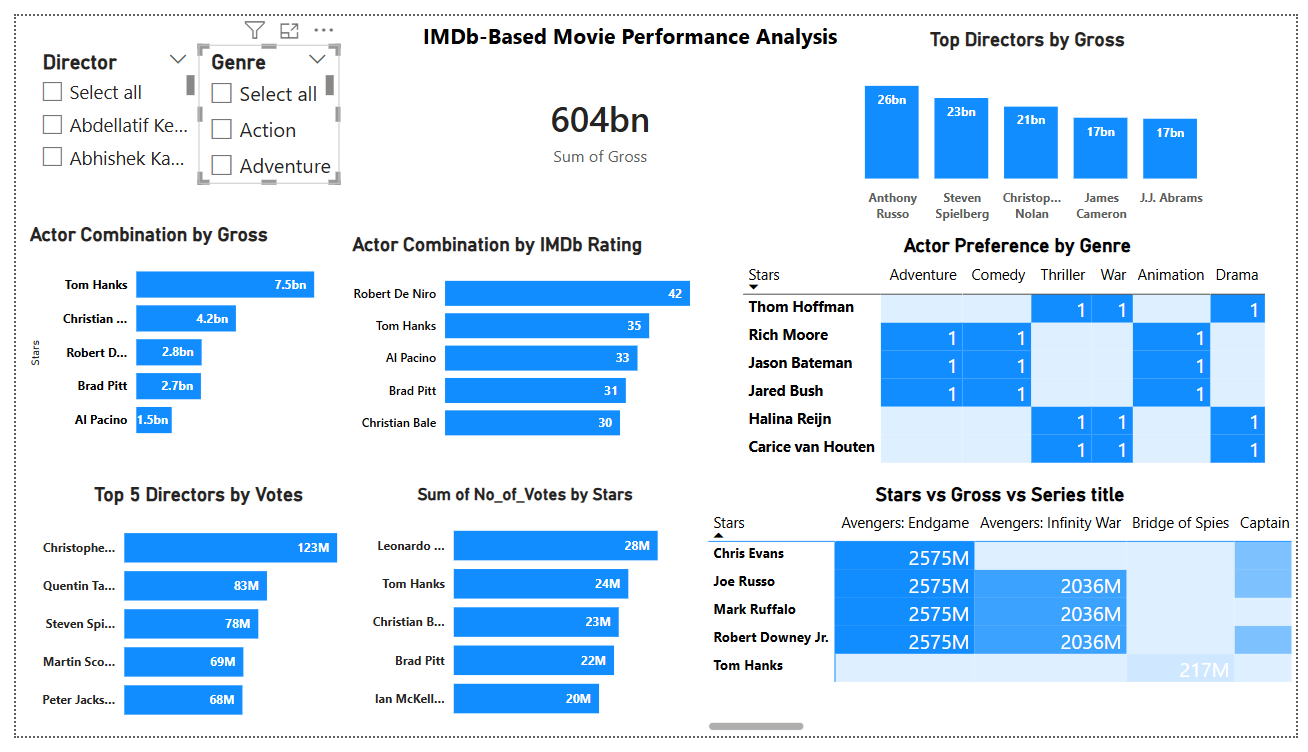

This screenshot's page, from the dashboard's own definition file:
{"tool":"powerbi","page":{"name":"Page 1","canvas":[1280,720],"ordinal":0},"visuals":[{"type":"columnChart","title":"Top  Directors by Gross","fields":{"Y":["imdb.Gross"],"Category":["imdb.Director"]},"box":[806.7,12.2,410.1,201.4],"z":0},{"type":"barChart","title":"Top 5 Directors by Votes","fields":{"Category":["imdb.Director"],"Y":["imdb.No_of_Votes"]},"box":[7.3,467.4,350.3,252.6],"z":1000},{"type":"pivotTable","title":"Stars vs Gross vs Series title","fields":{"Columns":["imdb.Series_Title"],"Values":["imdb.Gross"],"Rows":["imdb.Stars"]},"box":[687.2,467.4,593,252.3],"z":2000},{"type":"barChart","fields":{"Y":["imdb.No_of_Votes"],"Category":["imdb.Stars"]},"box":[340.5,467.4,338.1,251.4],"z":3000},{"type":"pivotTable","title":"Actor Preference by Genre","fields":{"Rows":["imdb.Stars"],"Columns":["imdb.Genre"],"Values":["imdb.Series_Title"]},"box":[722.5,218.5,557.7,249],"z":4000},{"type":"card","fields":{"Values":["imdb.Gross"]},"box":[509.3,58.1,151.2,110.5],"z":5000},{"type":"slicer","fields":{"Values":["imdb.Genre"]},"box":[183.1,29.3,140.4,137.9],"z":6000},{"type":"slicer","fields":{"Values":["imdb.Director"]},"box":[13.4,29.3,169.6,137.9],"z":7000},{"type":"barChart","title":"Actor Combination by IMDb Rating","fields":{"Y":["imdb.IMDB_Rating"],"Category":["imdb.Stars"]},"box":[330.7,217.2,375.9,220.9],"z":8000},{"type":"barChart","title":"Actor Combination by Gross","fields":{"Category":["imdb.Stars"],"Y":["imdb.TotalGross"]},"box":[8.5,207.5,322.2,229.4],"z":9000},{"type":"textbox","box":[393.5,0,441,57.7],"z":10000}]}

Visuals, with their boxes in screenshot pixels (x1, y1, x2, y2), scaled from the page's 1280x720 canvas onto the 1308x752 screenshot:
"Top  Directors by Gross" columnChart: [x1=824, y1=13, x2=1243, y2=223]
"Top 5 Directors by Votes" barChart: [x1=7, y1=488, x2=365, y2=751]
"Stars vs Gross vs Series title" pivotTable: [x1=702, y1=488, x2=1307, y2=751]
barChart - imdb.No_of_Votes x imdb.Stars: [x1=348, y1=488, x2=693, y2=751]
"Actor Preference by Genre" pivotTable: [x1=738, y1=228, x2=1307, y2=488]
card - imdb.Gross: [x1=520, y1=61, x2=675, y2=176]
slicer - imdb.Genre: [x1=187, y1=31, x2=331, y2=175]
slicer - imdb.Director: [x1=14, y1=31, x2=187, y2=175]
"Actor Combination by IMDb Rating" barChart: [x1=338, y1=227, x2=722, y2=458]
"Actor Combination by Gross" barChart: [x1=9, y1=217, x2=338, y2=456]
textbox: [x1=402, y1=0, x2=853, y2=60]
